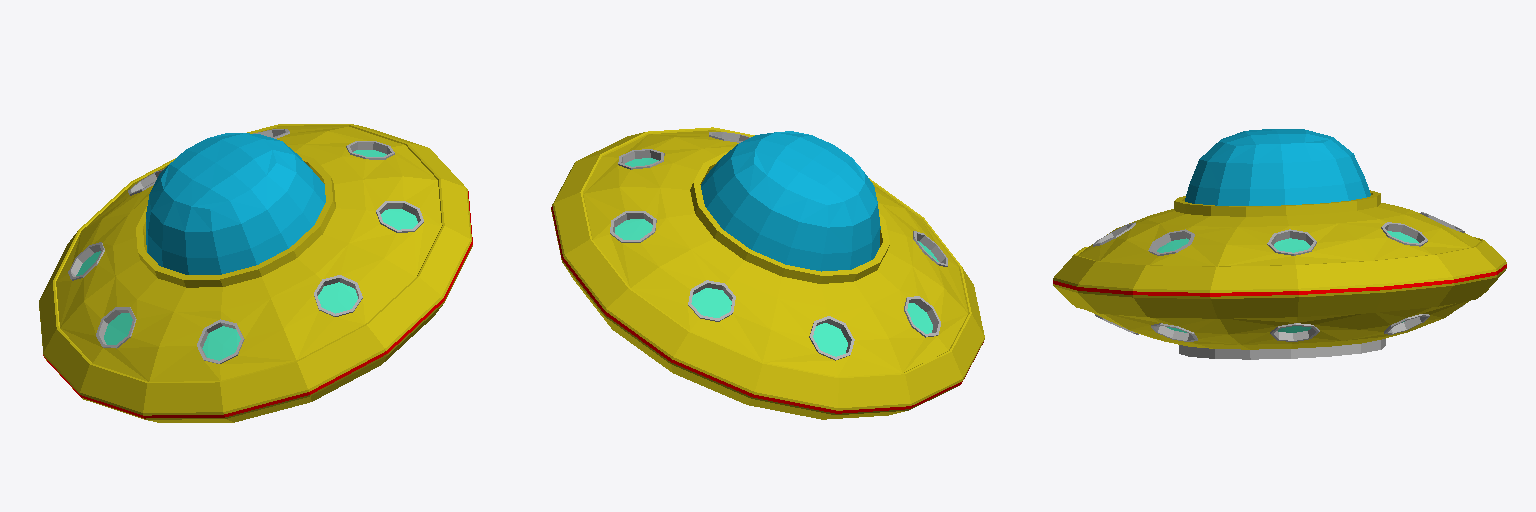
Rendered from YellowUFO.obj.
The picture shows the model from 3 angles: view 1: azimuth 30°, elevation 25°; view 2: azimuth 150°, elevation 25°; view 3: azimuth 270°, elevation 25°; orthographic projection.
Parts seen in each view (by area): view 1: YellowSpaceShip; view 2: YellowSpaceShip; view 3: YellowSpaceShip.
Boxes of the visible parts, x1=… form: YellowSpaceShip: x1=39, y1=124, x2=472, y2=422; YellowSpaceShip: x1=551, y1=127, x2=984, y2=419; YellowSpaceShip: x1=1053, y1=129, x2=1506, y2=359.
Bounding box in the file's own units: 140 × 82.89 × 148.